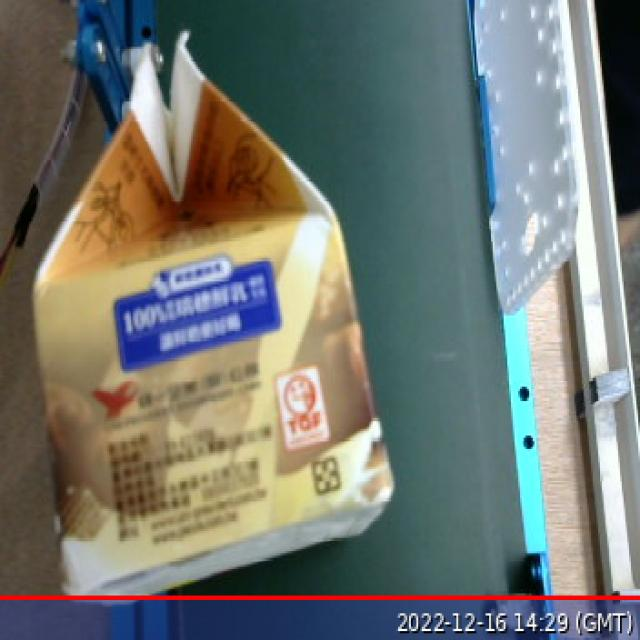non_white_jug: (5, 23, 417, 611)
